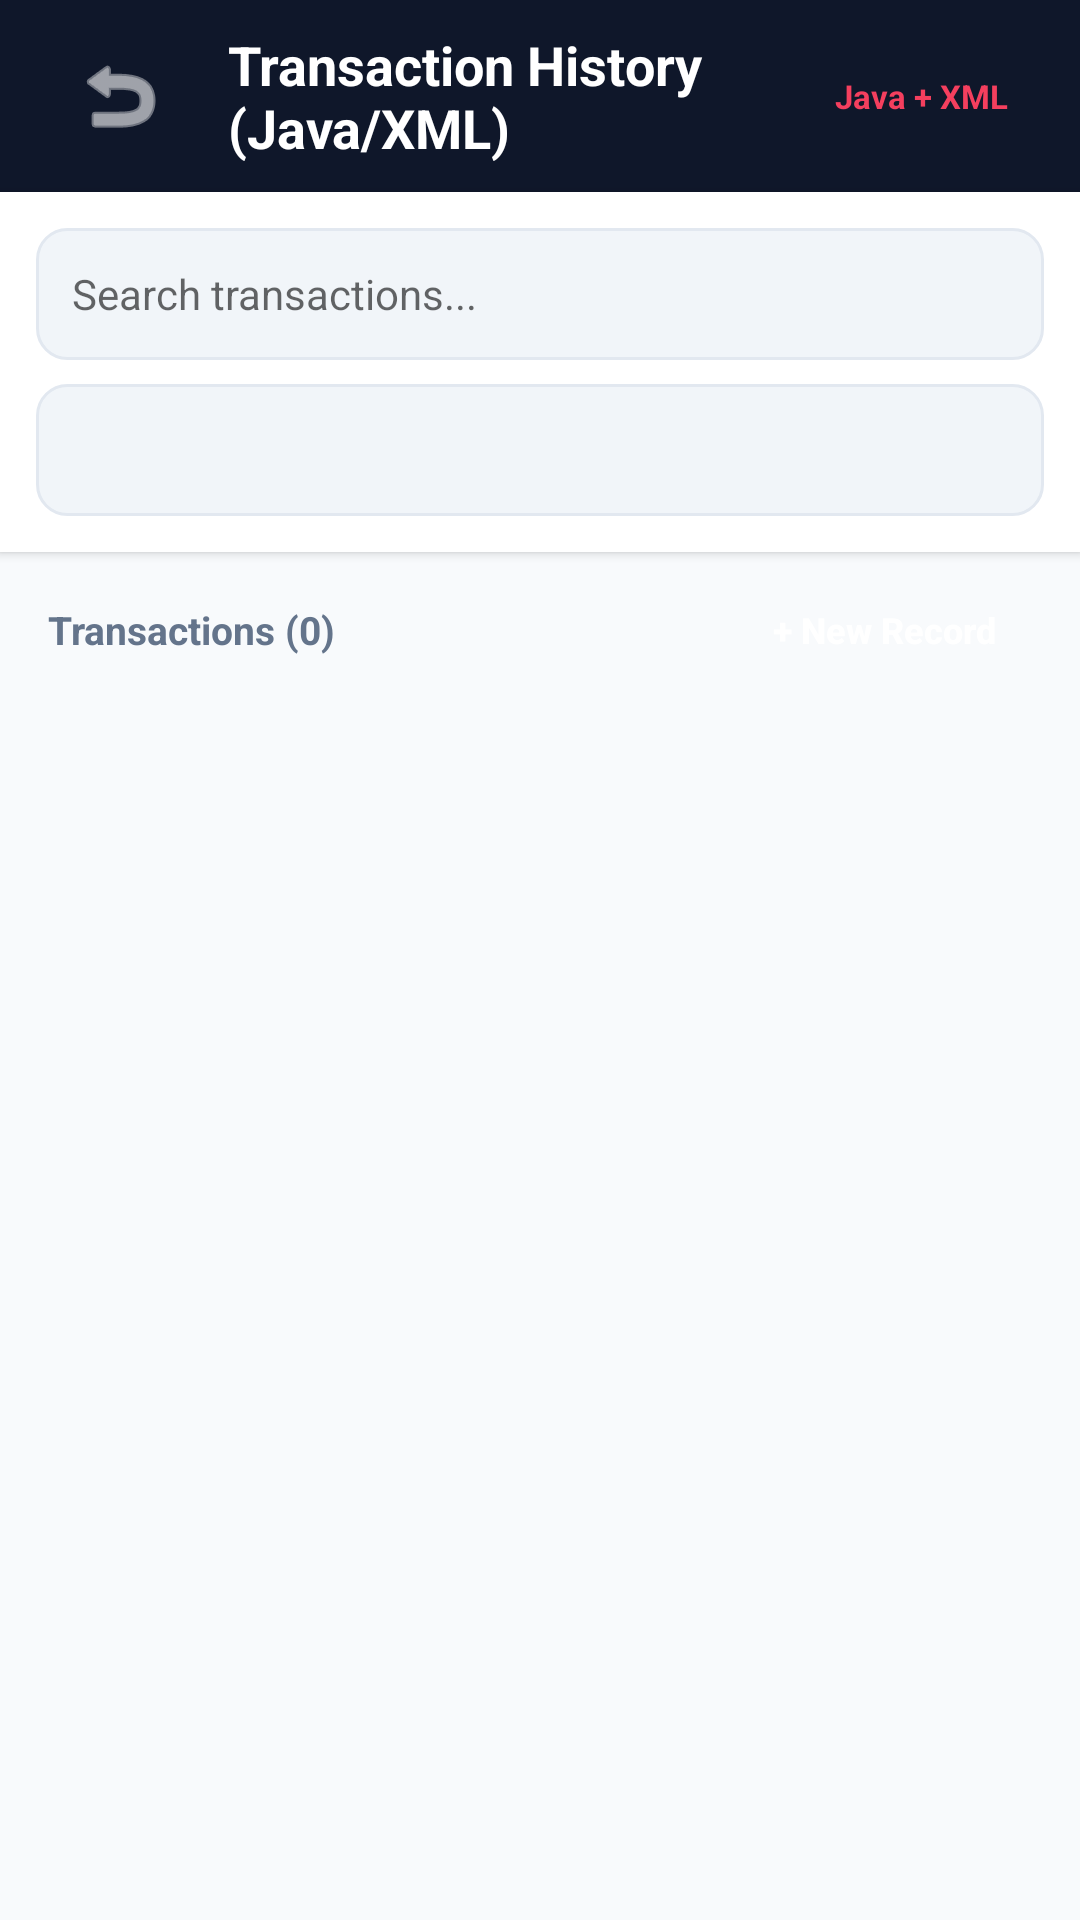

Locate icon controls on the screen. Image size 1080 × 1920, boxes as {"x1": x1, "y1": y1, "x2": x2, "y2": y2}.
Back: {"x1": 87, "y1": 65, "x2": 156, "y2": 128}
